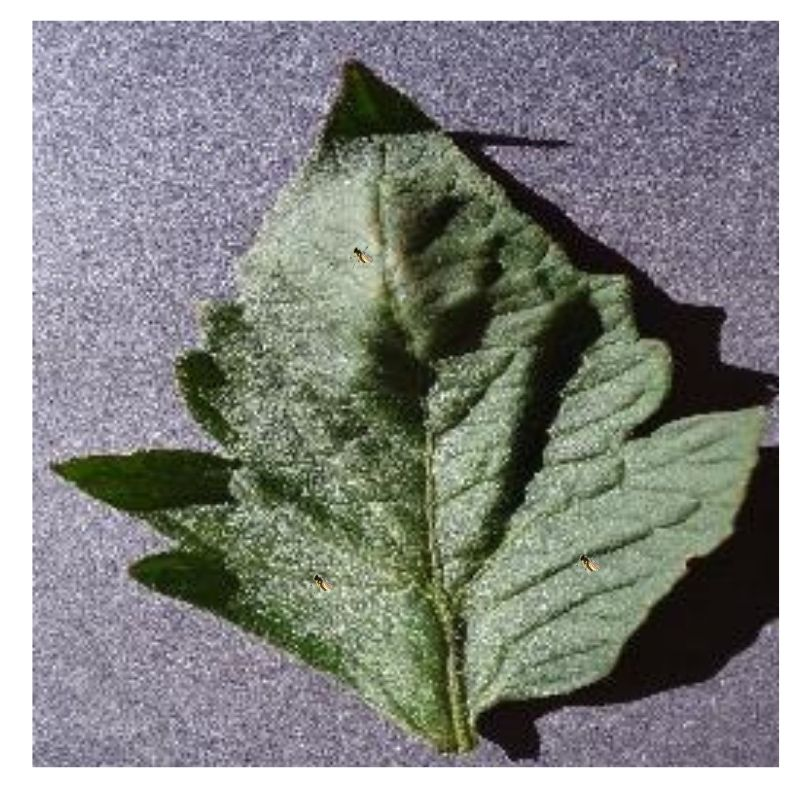liriomyza: (576, 552, 604, 575), (350, 243, 375, 266), (311, 572, 334, 592)
